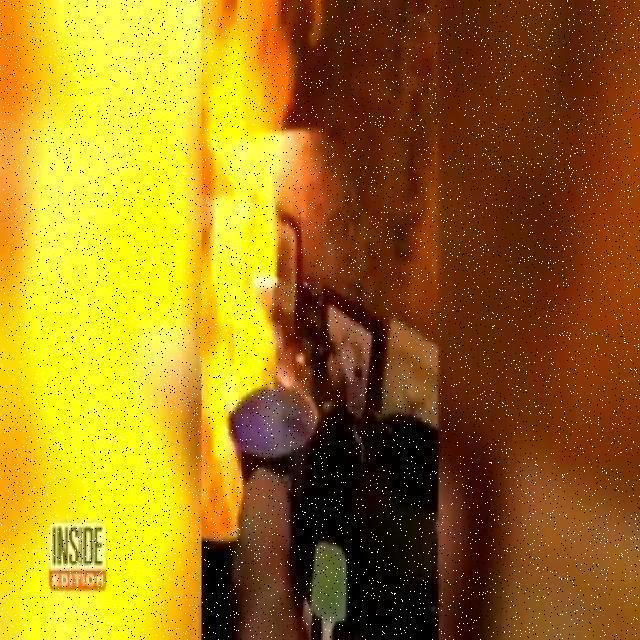smoke: (208, 2, 282, 542)
